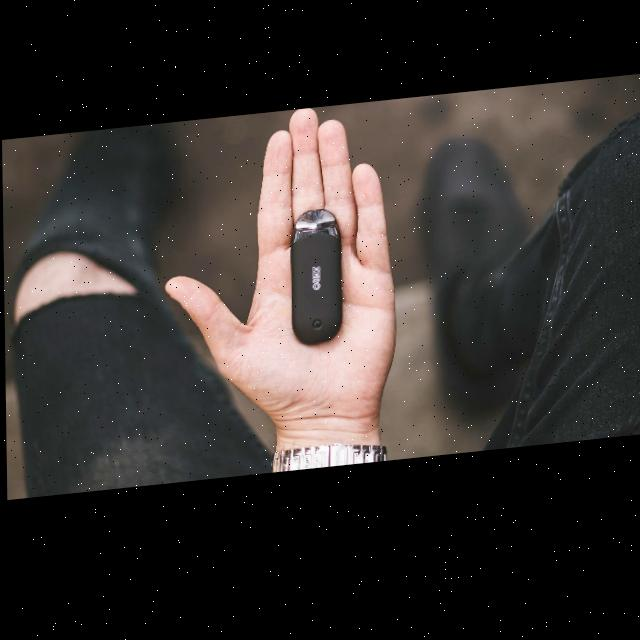vape: (245, 112, 383, 371)
